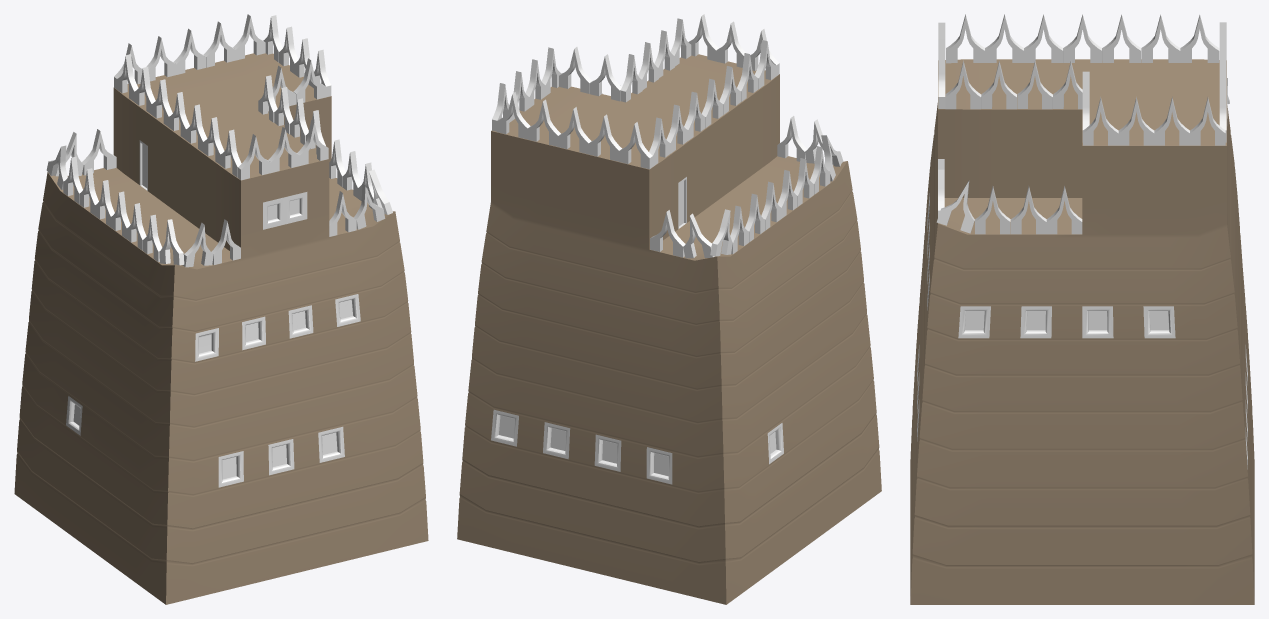
Rendered from Aseer_House (1).fbx.
3 renders of one model, left to right at view 1: azimuth 30°, elevation 25°; view 2: azimuth 150°, elevation 25°; view 3: azimuth 270°, elevation 25°, orthographic. The views are drawn at different scales.
Parts seen in each view (by area): view 1: Aseer_House, Heads9, Heads18, Heads21, Heads8, Heads34, Heads32, Heads33, Heads20, Heads19, Heads27, Heads35 (+8 smaller); view 2: Aseer_House, Heads18, Heads36, Heads34, Heads27, Heads32, Heads35, Heads33, Heads16, Heads26, Heads17, Heads25 (+10 smaller); view 3: Aseer_House, Heads37, Heads38, Heads43, Heads40, Heads42, Heads39, Heads41, Heads22, Heads6, Heads29, Heads3 (+8 smaller).
Part boxes in pixels (left/top/right/bottom): Aseer_House: left=14, top=53, right=428, bottom=604; Heads9: left=159, top=219, right=184, bottom=265; Heads18: left=81, top=129, right=116, bottom=175; Heads21: left=238, top=134, right=270, bottom=180; Heads8: left=182, top=222, right=213, bottom=267; Heads34: left=173, top=28, right=205, bottom=74; Heads32: left=233, top=14, right=265, bottom=60; Heads33: left=203, top=21, right=235, bottom=67; Heads20: left=268, top=127, right=299, bottom=172; Heads19: left=297, top=120, right=328, bottom=165; Heads27: left=293, top=58, right=325, bottom=104; Heads35: left=146, top=36, right=176, bottom=81; Aseer_House: left=457, top=54, right=881, bottom=604; Heads18: left=650, top=210, right=685, bottom=257; Heads36: left=619, top=122, right=652, bottom=169; Heads34: left=558, top=107, right=591, bottom=154; Heads27: left=559, top=47, right=592, bottom=93; Heads32: left=497, top=92, right=530, bottom=139; Heads35: left=588, top=114, right=621, bottom=161; Heads33: left=527, top=99, right=560, bottom=146; Heads16: left=710, top=209, right=732, bottom=256; Heads26: left=590, top=54, right=621, bottom=101; Heads17: left=683, top=213, right=714, bottom=258; Heads25: left=620, top=54, right=642, bottom=102; Aseer_House: left=910, top=59, right=1254, bottom=604; Heads37: left=1180, top=14, right=1219, bottom=62; Heads38: left=1141, top=14, right=1180, bottom=62; Heads43: left=946, top=14, right=984, bottom=63; Heads40: left=1063, top=14, right=1101, bottom=62; Heads42: left=985, top=14, right=1023, bottom=62; Heads39: left=1102, top=14, right=1140, bottom=62; Heads41: left=1024, top=14, right=1062, bottom=62; Heads22: left=945, top=60, right=981, bottom=109; Heads6: left=1046, top=185, right=1082, bottom=234; Heads29: left=1118, top=97, right=1154, bottom=145; Heads3: left=936, top=180, right=974, bottom=233.
Bounding box in the file's own units: 11.45 × 18.14 × 11.45.
